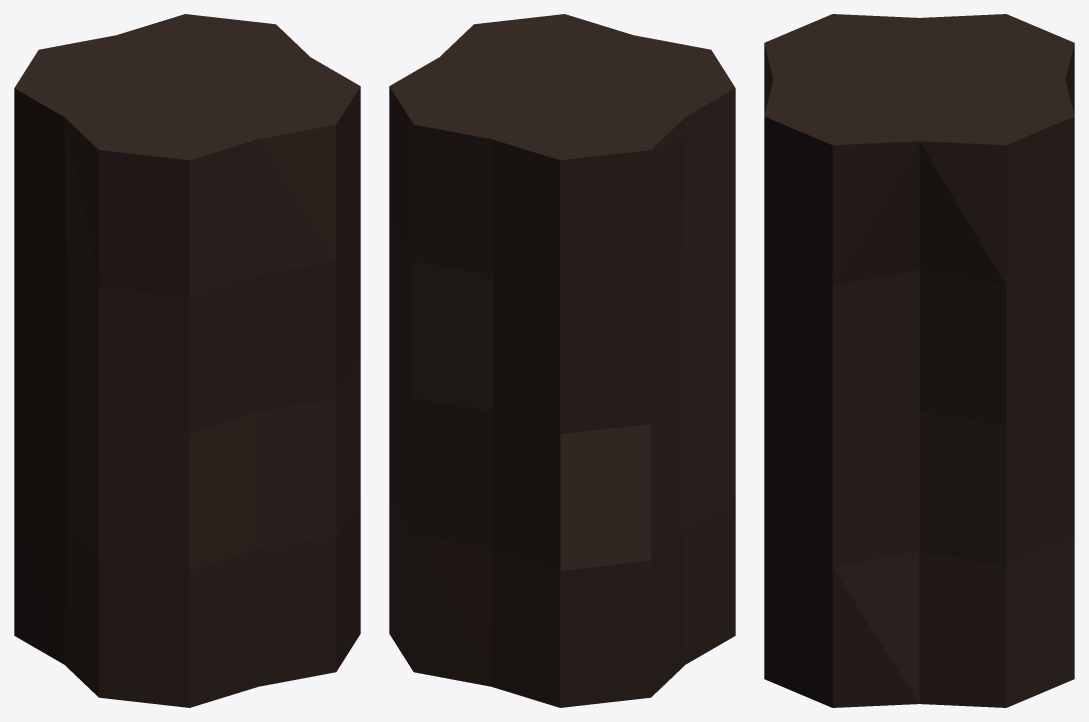
The model's file is Section_3.glb.
The picture shows the model from 3 angles, left to right: view 1: azimuth 30°, elevation 25°; view 2: azimuth 150°, elevation 25°; view 3: azimuth 270°, elevation 25°; orthographic projection. The views are drawn at different scales.
Parts seen in each view (by area): view 1: Section; view 2: Section; view 3: Section.
Part boxes in pixels (left/top/right/bottom): Section: left=14, top=14, right=360, bottom=707; Section: left=389, top=14, right=735, bottom=707; Section: left=764, top=14, right=1074, bottom=707.
Bounding box in the file's own units: 2.4 × 4.8 × 2.4.
